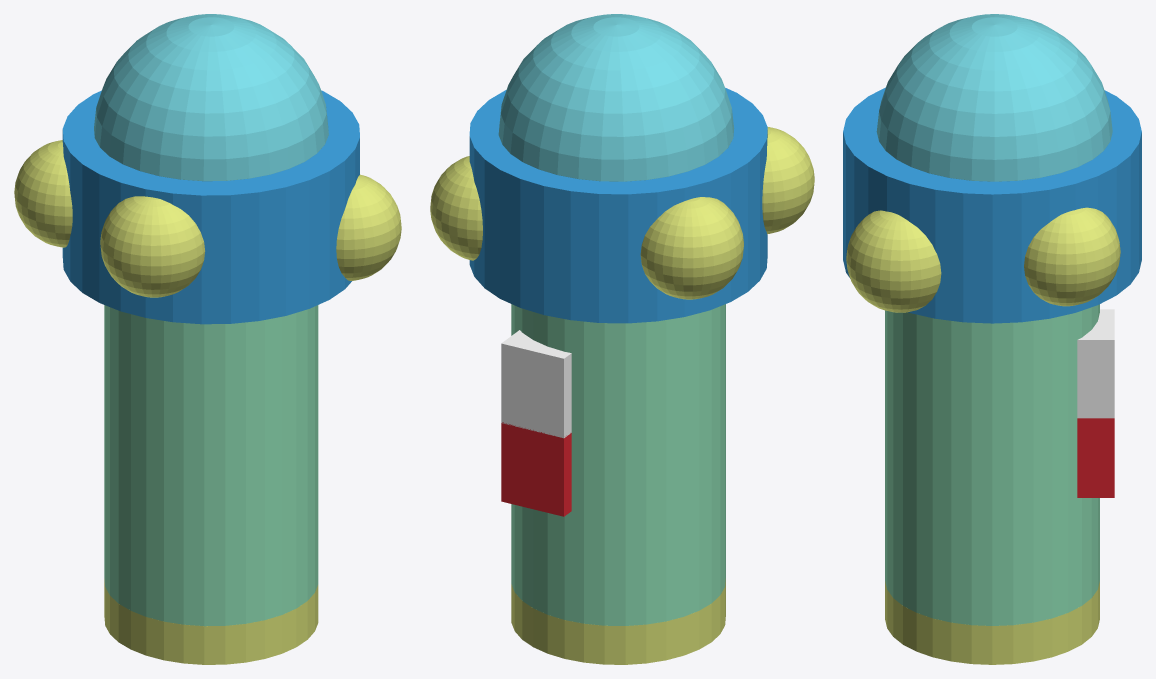
The picture shows the model from 3 angles, left to right: view 1: azimuth 30°, elevation 25°; view 2: azimuth 150°, elevation 25°; view 3: azimuth 270°, elevation 25°; orthographic projection.
Visible parts, largest first — view 1: Cylinder.013_69, Cylinder.014_70, Sphere.039_75, Sphere.037_73, Sphere.033_71, Sphere.035_72; view 2: Cylinder.013_69, Cylinder.014_70, Sphere.039_75, Sphere.035_72, Cube.002_76, Cube.003_77, Sphere.037_73, Sphere.038_74; view 3: Cylinder.013_69, Cylinder.014_70, Sphere.039_75, Sphere.033_71, Sphere.038_74, Cube.002_76, Cube.003_77.
Part boxes in pixels (<box>): Cylinder.013_69: <box>104,305,318,664</box>; Cylinder.014_70: <box>62,90,359,324</box>; Sphere.039_75: <box>94,14,328,181</box>; Sphere.037_73: <box>100,196,205,297</box>; Sphere.033_71: <box>336,174,401,280</box>; Sphere.035_72: <box>14,140,72,247</box>; Cylinder.013_69: <box>511,304,725,664</box>; Cylinder.014_70: <box>469,88,767,323</box>; Sphere.039_75: <box>498,14,734,181</box>; Sphere.035_72: <box>640,197,743,299</box>; Cube.002_76: <box>501,330,571,438</box>; Cube.003_77: <box>501,422,571,516</box>; Sphere.037_73: <box>762,127,814,234</box>; Sphere.038_74: <box>430,156,482,260</box>; Cylinder.013_69: <box>885,304,1099,664</box>; Cylinder.014_70: <box>843,87,1141,323</box>; Sphere.039_75: <box>876,14,1112,181</box>; Sphere.033_71: <box>846,210,941,312</box>; Sphere.038_74: <box>1024,207,1120,306</box>; Cube.002_76: <box>1077,309,1114,418</box>; Cube.003_77: <box>1077,418,1114,497</box>.
Bounding box in the file's own units: 4.22 × 8.04 × 3.66.
